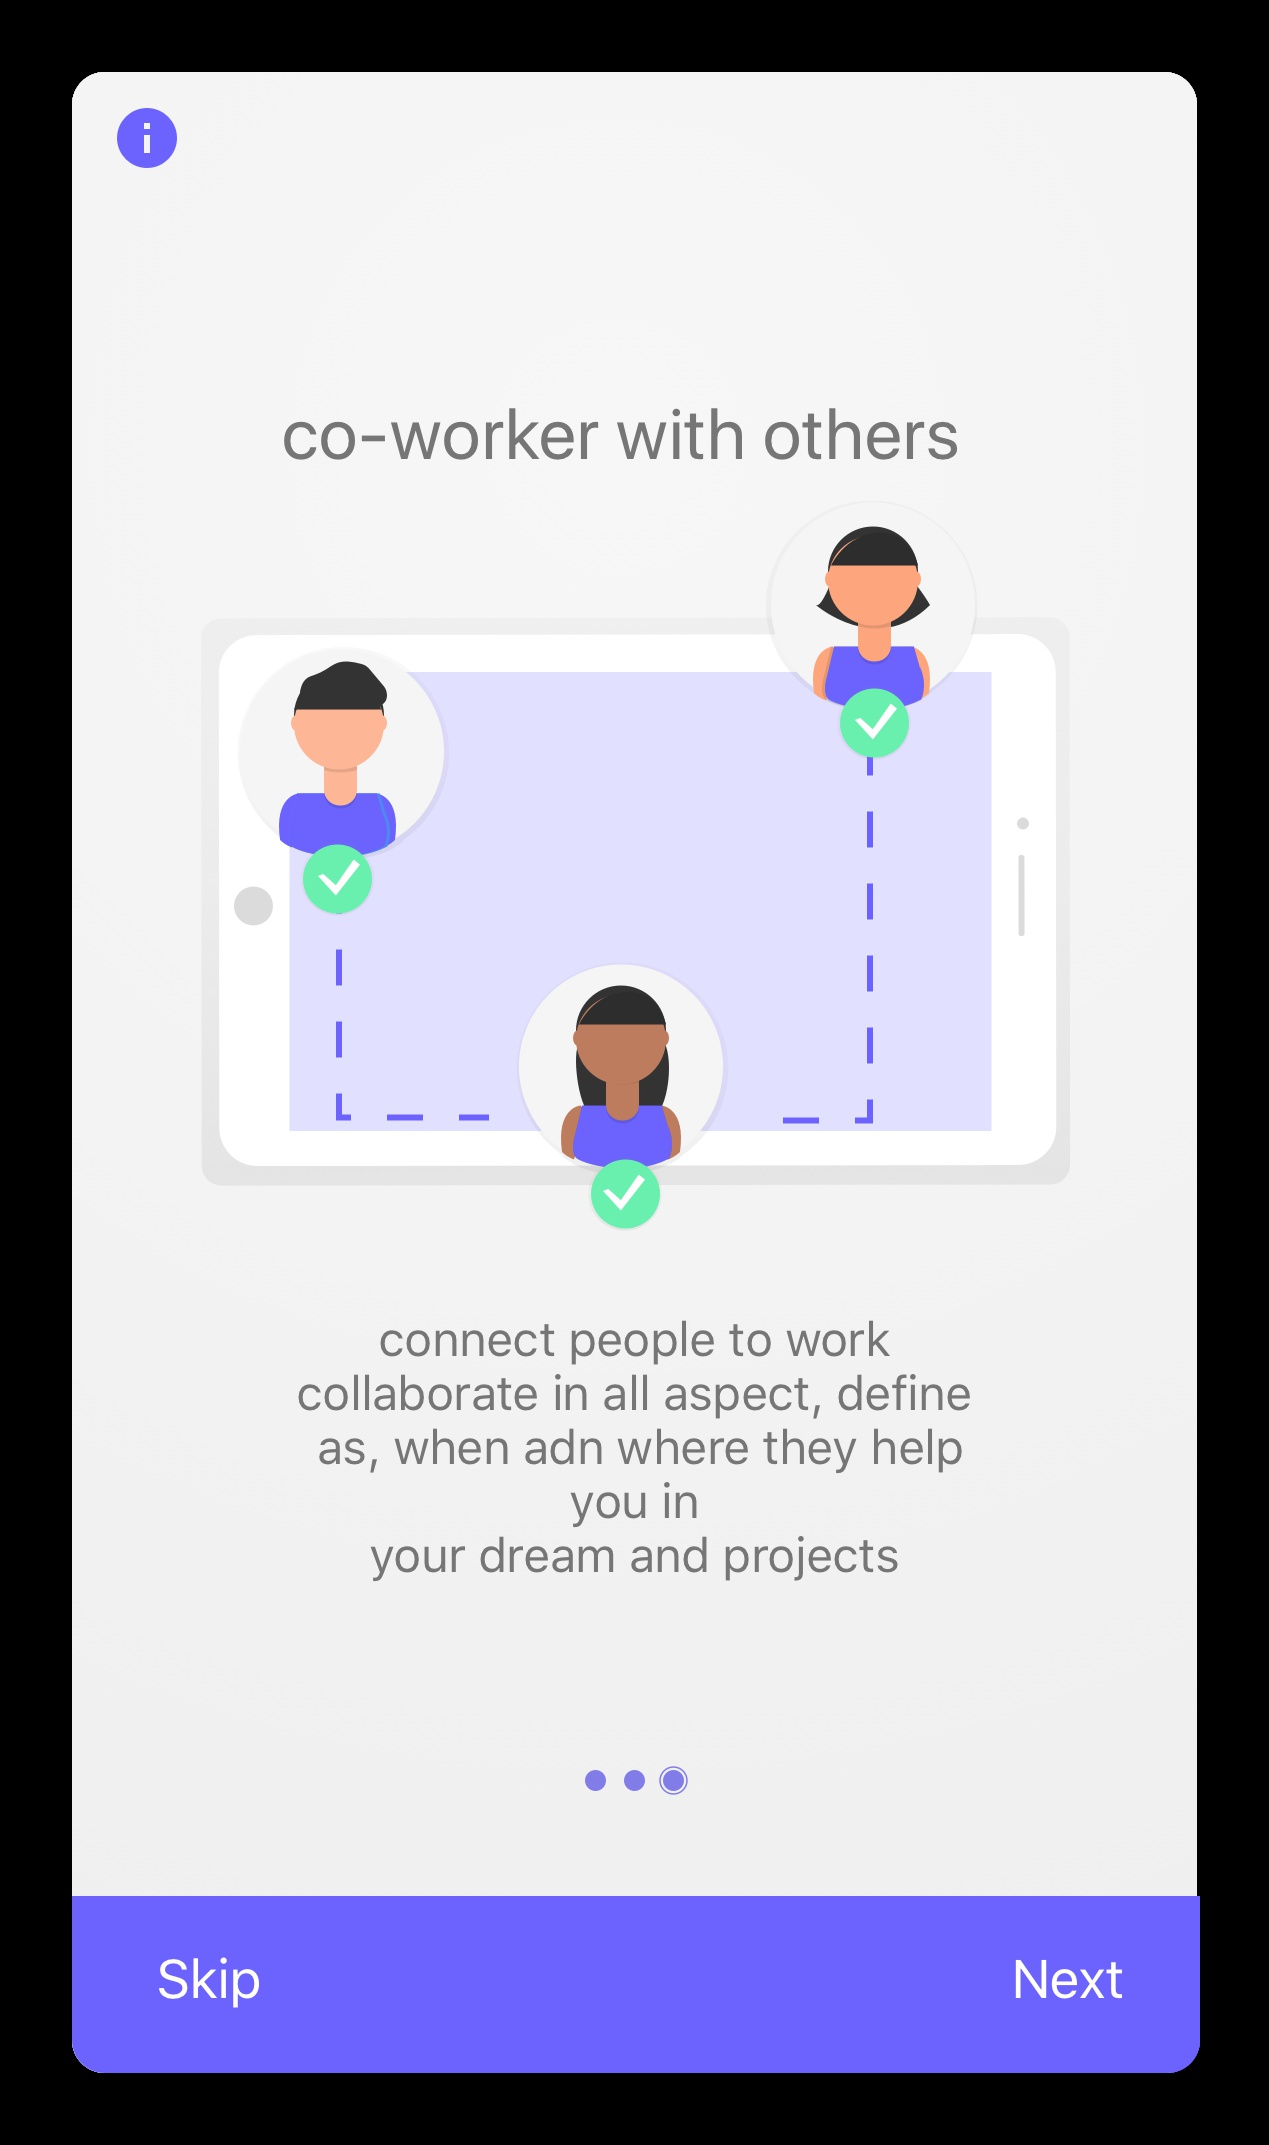Icon: (116, 107, 178, 171)
Image: (201, 498, 1073, 1228)
PageIndicator: (583, 1763, 690, 1798)
Text: (298, 1319, 971, 1583), (283, 406, 959, 462), (159, 1956, 261, 2011), (1014, 1959, 1124, 2001)
